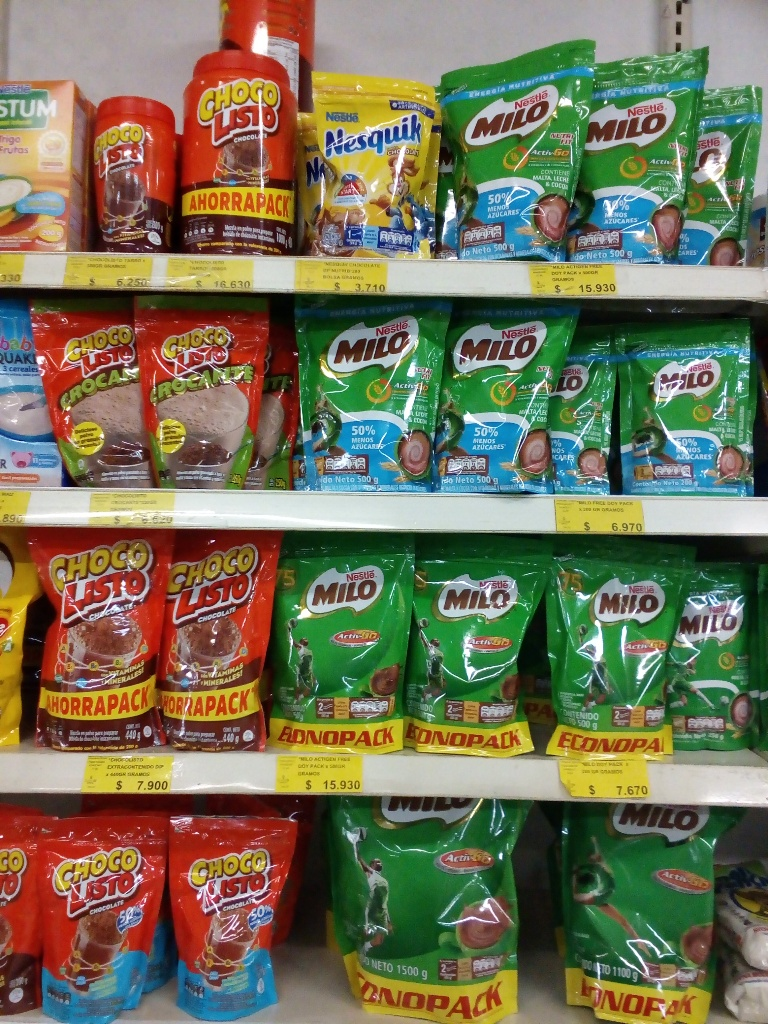COL0170103DYP44000: (158, 532, 279, 748)
COL0170103TRR00100: (179, 51, 302, 252)
COL0170103TRR30000: (92, 94, 181, 254)
COL0170104DYP20000: (168, 818, 298, 1019)
COL0170203DYP50000: (278, 542, 413, 752)
COL0170205DYP50000: (294, 297, 445, 491)
COL0170303DYP20000: (303, 70, 443, 261)
